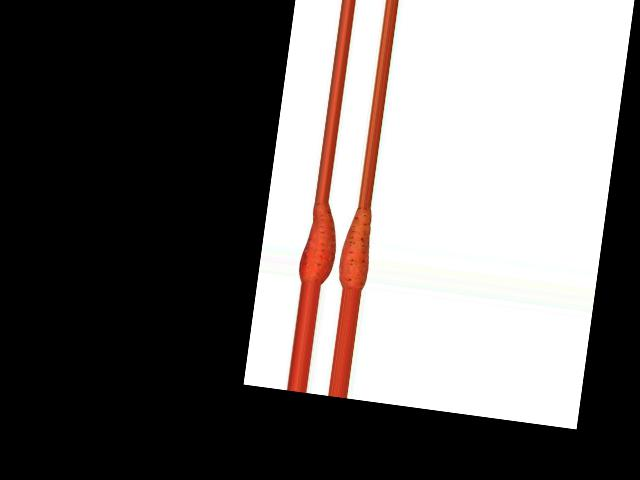sweet_potato: (336, 207, 375, 291)
